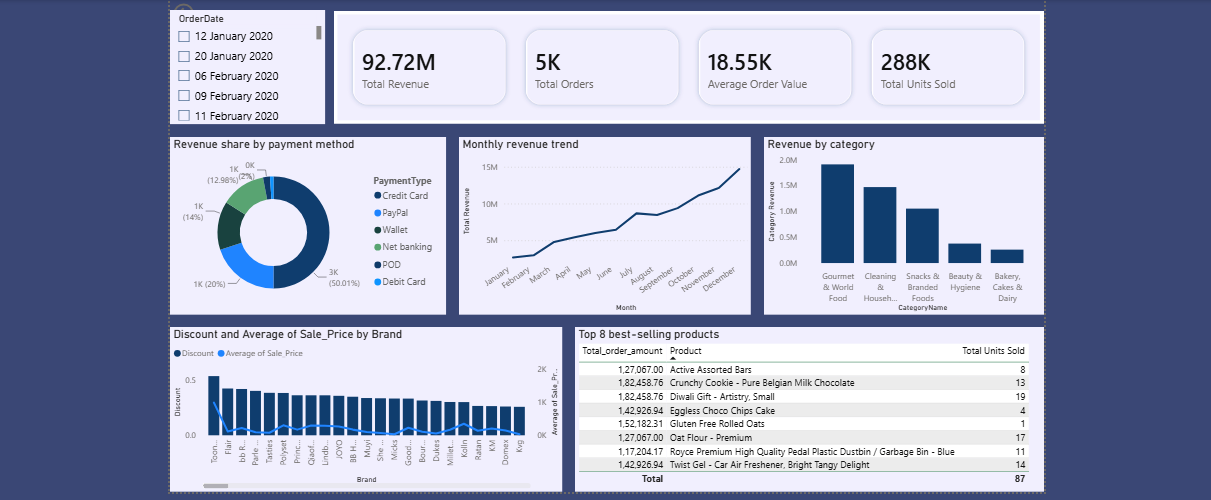

This screenshot's page, from the dashboard's own definition file:
{"tool":"powerbi","page":{"name":"Sales & Rvenue","canvas":[1280,720],"ordinal":0},"visuals":[{"type":"cardVisual","fields":{"Data":["orders.Total Revenue","orders.Total Orders","orders.Average Order Value","orderdetails.Total Units Sold"]},"box":[240,16.1,1040.5,165.4],"z":0},{"type":"lineChart","title":"Monthly revenue trend","fields":{"Category":["orders.OrderDate.Variation.Date Hierarchy.Year","orders.OrderDate.Variation.Date Hierarchy.Quarter","orders.OrderDate.Variation.Date Hierarchy.Month","orders.OrderDate.Variation.Date Hierarchy.Day"],"Y":["orders.Total Revenue"]},"box":[422.9,200.5,427.3,260.5],"z":1000},{"type":"clusteredColumnChart","title":"Revenue by category","fields":{"Category":["category.CategoryName"],"Y":["orderdetails.Category Revenue"]},"box":[869.3,200.5,411.2,260.5],"z":2000},{"type":"donutChart","title":"Revenue share by payment method","fields":{"Category":["payments.PaymentType"],"Y":["orders.Total Orders"]},"box":[0,200.5,403.9,260.5],"z":3000},{"type":"tableEx","title":"Top 8 best-selling products","fields":{"Values":["orders.Total_order_amount","products.Product","orderdetails.Total Units Sold"]},"box":[592.7,478.5,687.8,241.5],"z":4000},{"type":"actionButton","box":[0,0,100,40],"z":5000},{"type":"lineStackedColumnComboChart","fields":{"Category":["products.Brand"],"Y":["products.Discount"],"Y2":["Avg(products.Sale_Price)"]},"box":[0,478.5,573.7,241.5],"z":6000},{"type":"slicer","fields":{"Values":["orders.OrderDate"]},"box":[0,14.6,226.8,166.8],"z":7000}]}

Visuals, with their boxes in screenshot pixels (x1, y1, x2, y2):
cardVisual - orders.Total Revenue x orders.Total Orders: x1=329 y1=8 x2=1043 y2=122
"Monthly revenue trend" lineChart: x1=454 y1=135 x2=748 y2=313
"Revenue by category" clusteredColumnChart: x1=761 y1=135 x2=1043 y2=313
"Revenue share by payment method" donutChart: x1=164 y1=135 x2=441 y2=313
"Top 8 best-selling products" tableEx: x1=571 y1=325 x2=1043 y2=491
actionButton: x1=164 y1=0 x2=233 y2=24
lineStackedColumnComboChart - products.Brand x products.Discount: x1=164 y1=325 x2=558 y2=491
slicer - orders.OrderDate: x1=164 y1=7 x2=320 y2=121
